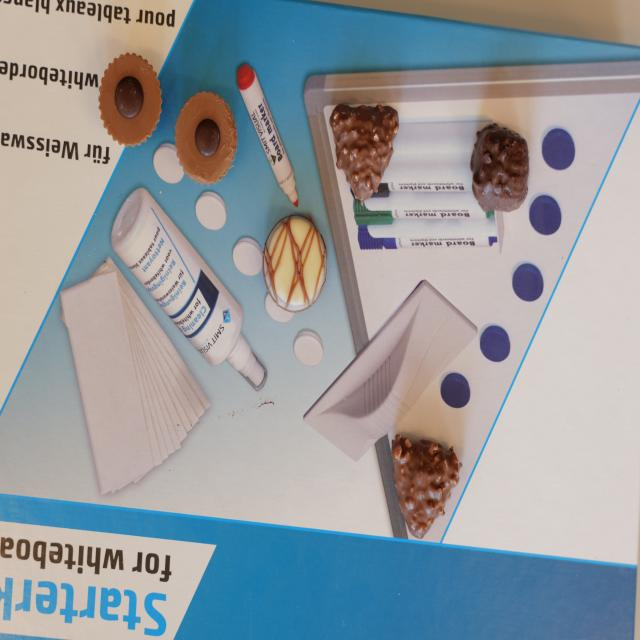Creme_brulee: (262, 214, 328, 314)
Noblesse: (98, 51, 163, 150), (174, 92, 238, 187)
Tentation_noir: (470, 122, 529, 212)
Triangolo: (390, 432, 462, 541), (328, 99, 398, 202)
